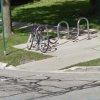Bicycle: (22, 18, 53, 61)
